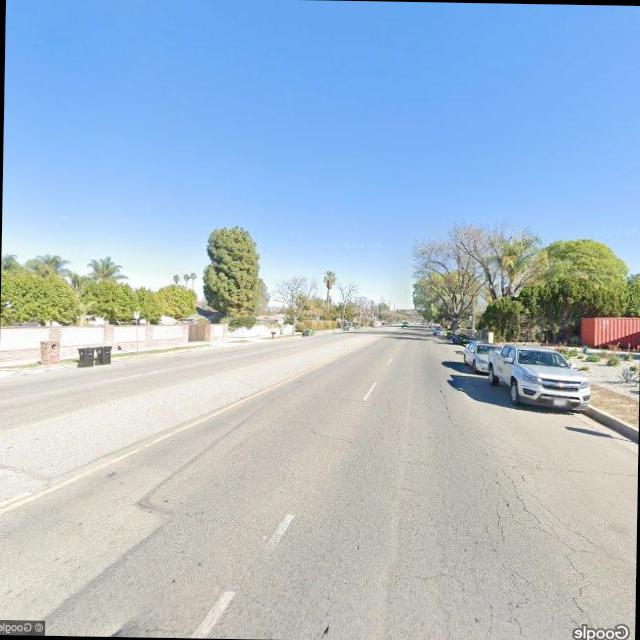crack: (432, 423, 634, 640)
pothole: (434, 377, 462, 429), (305, 424, 357, 444)
